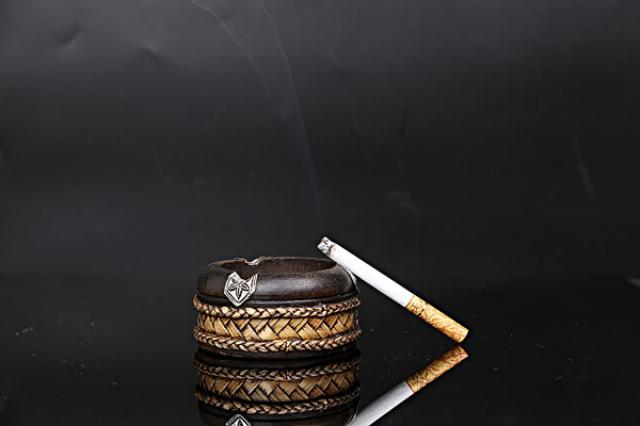Cigarette: (318, 232, 472, 342), (339, 347, 470, 426)
